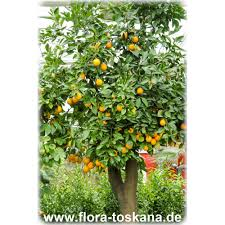orange: (94, 78, 103, 86), (137, 86, 144, 95), (93, 59, 101, 66)
